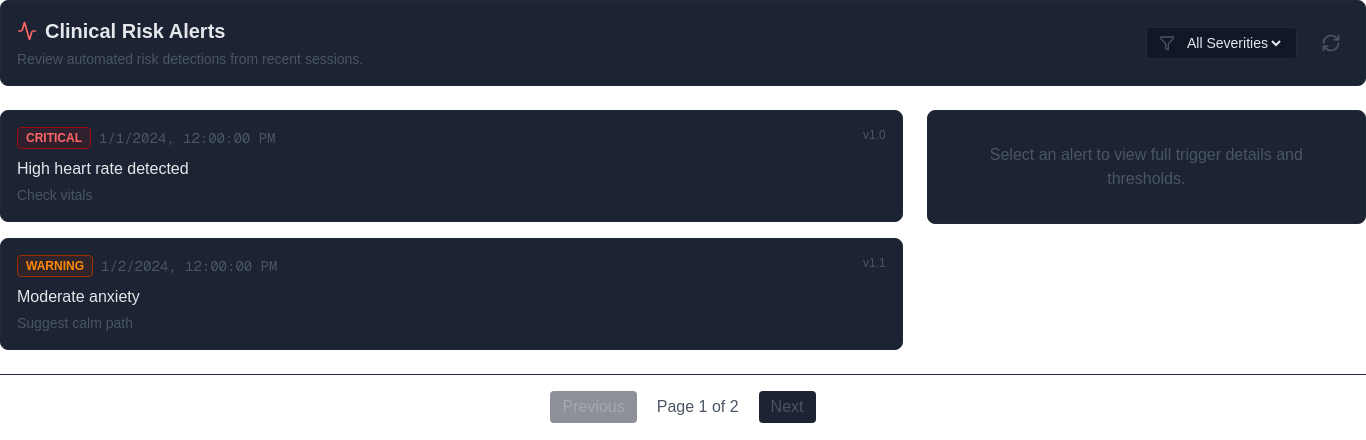
Scenario: ClinicalAlertsTab › handles refresh
Expected: the heading "High heart rate detected" is shown, [17,160,189,177]
Click the button named "Refresh Alerts": (1331, 43) [1313,25,1349,61]
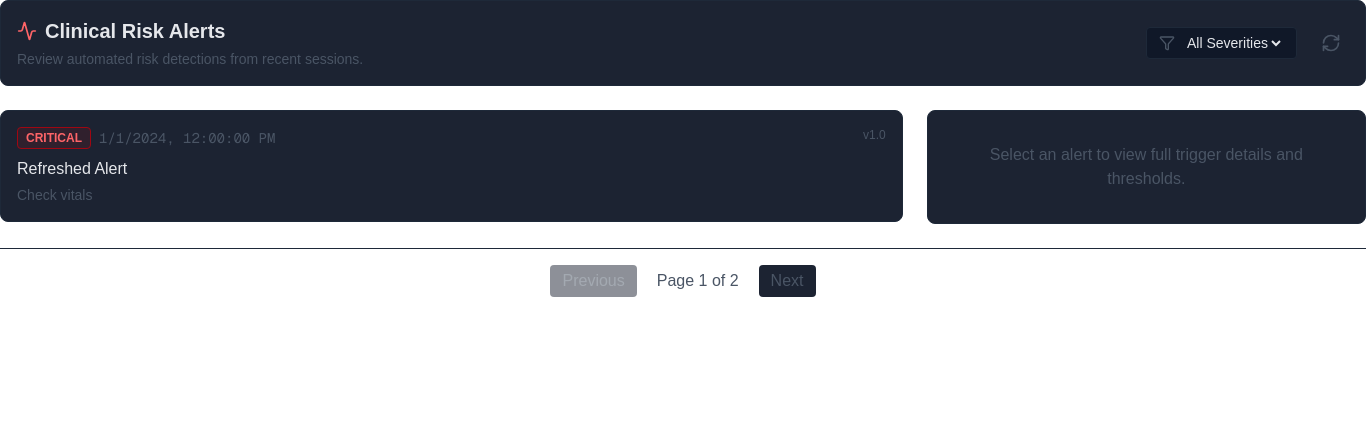
Result: the heading "Refreshed Alert" is shown at [17,160,127,177]
